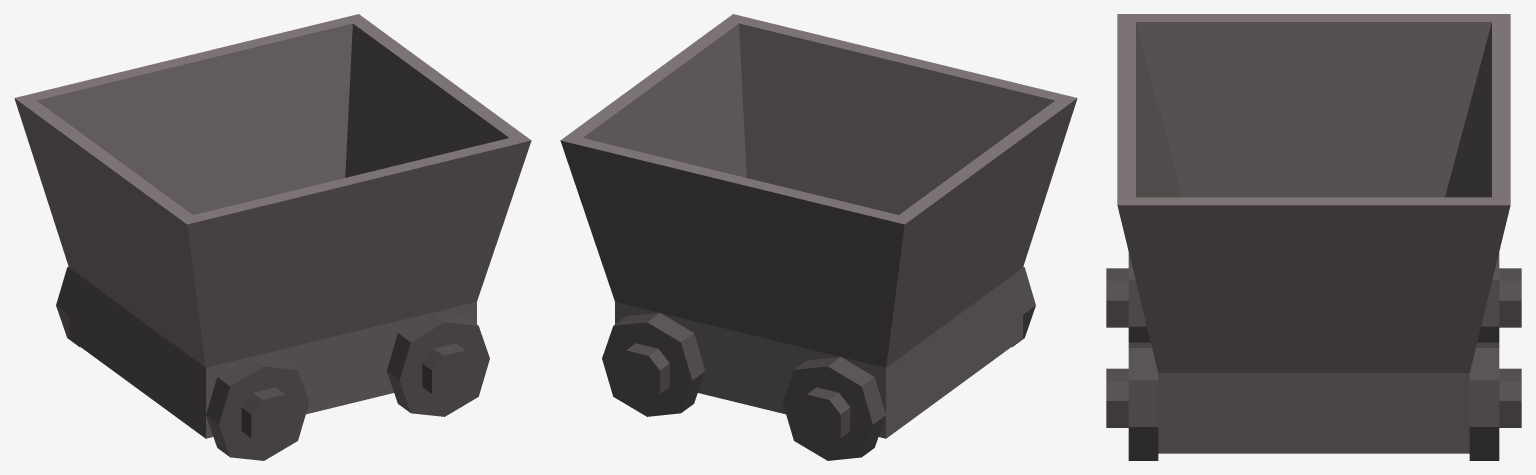
Rendered from mine-carts.gltf.
3 views of the same model, side by side, from view 1: azimuth 30°, elevation 25°; view 2: azimuth 150°, elevation 25°; view 3: azimuth 270°, elevation 25° (orthographic). The views are drawn at different scales.
Bounding box in the file's own units: 122 × 88 × 112.
1 material, 1 textured.
